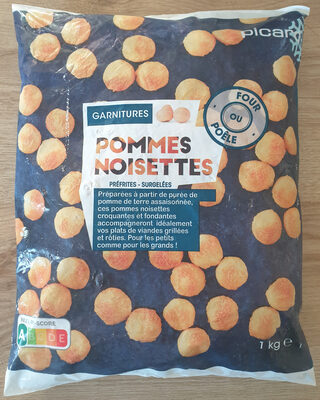Pommes noisettes: (16, 20, 304, 380)
